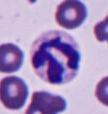N: (30, 29, 81, 85)
